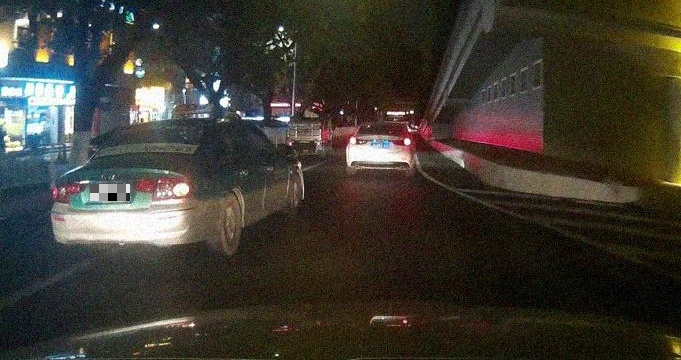L_light: (51, 180, 89, 204), (349, 136, 367, 145)
R_light: (134, 175, 194, 200), (389, 138, 411, 146)
T_light: (128, 149, 148, 154), (378, 124, 388, 126)
night-no: (346, 122, 413, 177)
night-right: (51, 117, 211, 256)
plate_1: (90, 184, 130, 201)
